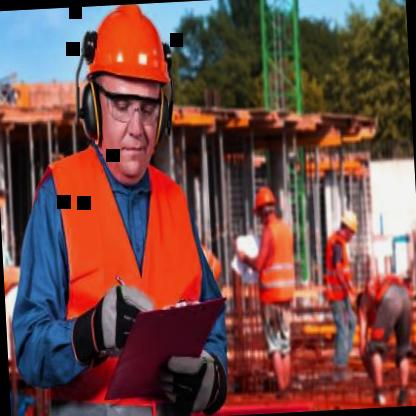helmet: (73, 1, 180, 182), (252, 181, 276, 223), (340, 207, 358, 243)
